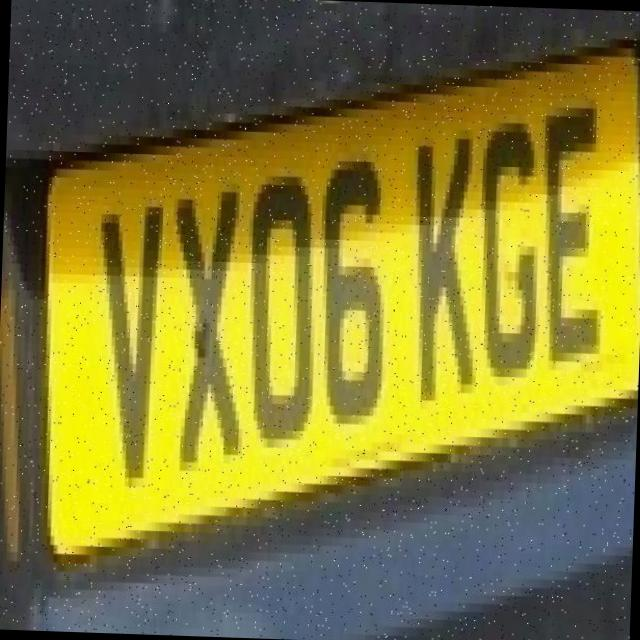LicensePlate: (69, 113, 640, 501)
